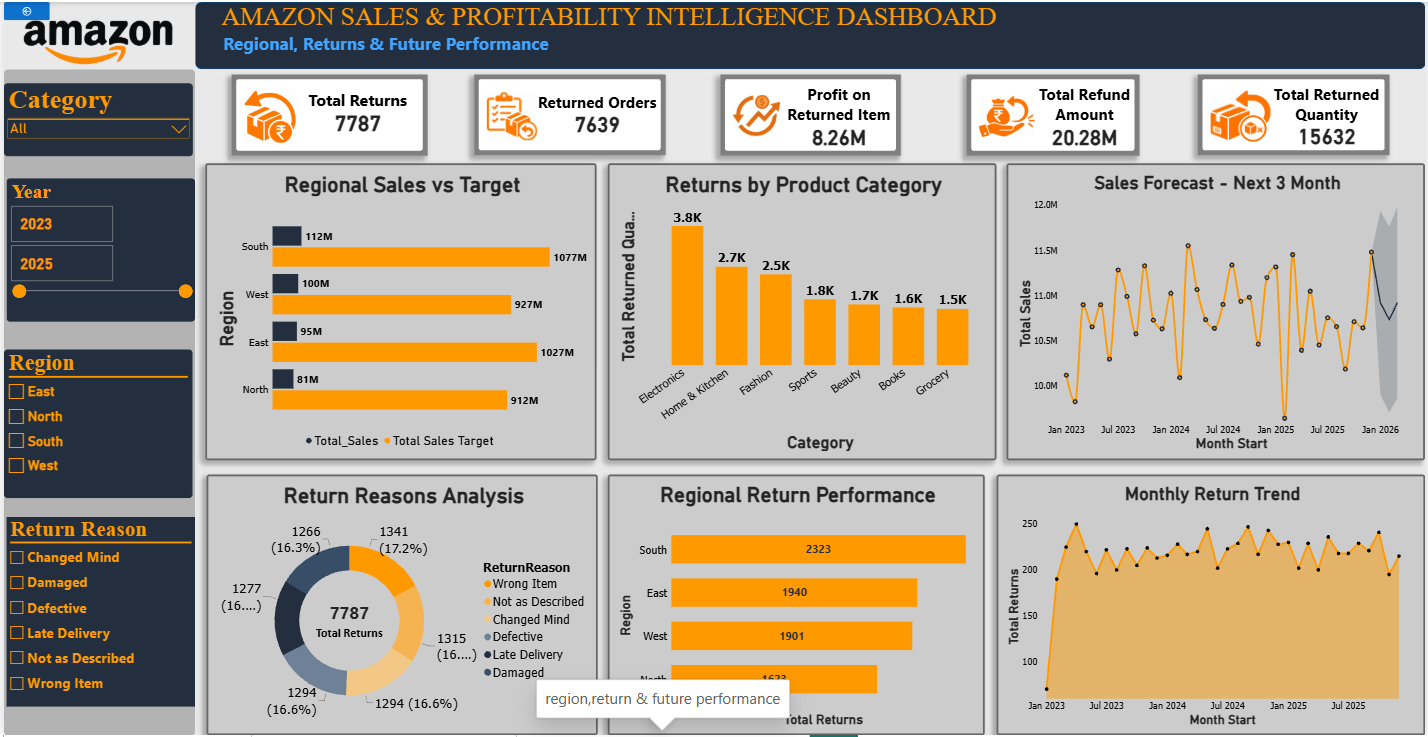

What the dashboard file says about the page in this screenshot:
{"tool":"powerbi","page":{"name":"region,return & future performance","canvas":[3100,1600],"ordinal":2},"visuals":[{"type":"shape","box":[0,146.4,416.8,1453.1],"z":0},{"type":"shape","box":[416.8,0,2683.8,146.4],"z":1000},{"type":"clusteredBarChart","title":"Regional Sales vs Target","fields":{"Category":["Regions.Region"],"Y":["Sales.Total_Sales","Targets.Total Sales Target"]},"box":[439.3,352,853.3,647.7],"z":2000},{"type":"clusteredColumnChart","title":"Returns by Product Category","fields":{"Category":["Products.Category"],"Y":["Returns.Total Returned Quantity"]},"box":[1318,352,847.7,647.7],"z":3000},{"type":"actionButton","box":[0,0,100,40],"z":4000},{"type":"donutChart","title":"Return Reasons Analysis","fields":{"Category":["Returns.ReturnReason"],"Y":["Returns.Total Returns"]},"box":[442.1,1030.7,853.3,568.9],"z":5000},{"type":"clusteredBarChart","title":"Regional Return Performance","fields":{"Category":["Regions.Region"],"Y":["Returns.Total Returns"]},"box":[1318,1030.7,822.3,568.9],"z":6000},{"type":"lineChart","title":" Sales Forecast - Next 3 Month","fields":{"Category":["Calendar.Month Start"],"Y":["Sales.Total_Sales"]},"box":[2188.1,352,912.4,647.7],"z":7000},{"type":"lineChart","title":"Monthly Return Trend","fields":{"Category":["Calendar.Month Start"],"Y":["Returns.Total Returns"]},"box":[2165.6,1030.7,935,568.9],"z":8000},{"type":"textbox","box":[473.1,0,2236,146.4],"z":9000},{"type":"image","box":[35.4,16.1,337.7,141.5],"z":10000},{"type":"cardVisual","fields":{"Data":["Returns.Total Returns"]},"box":[495.6,157.7,428.1,177.4],"z":11000},{"type":"cardVisual","fields":{"Data":["Returns.Returned Orders"]},"box":[1025.1,157.7,418.7,176.1],"z":12000},{"type":"cardVisual","fields":{"Data":["Returns.Returned Profit Impact"]},"box":[1563,157.7,394.3,177.4],"z":13000},{"type":"cardVisual","fields":{"Data":["Returns.Total Refund Amount"]},"box":[2100.8,157.7,377.4,177.4],"z":14000},{"type":"cardVisual","fields":{"Data":["Returns.Total Returned Quantity"]},"box":[2604.9,157.7,418.7,176.1],"z":15000},{"type":"slicer","fields":{"Values":["Products.Category"]},"box":[0,177.4,412.1,159.5],"z":16000},{"type":"slicer","fields":{"Values":["Calendar.Year"]},"box":[6.6,385.5,411.2,312.6],"z":17000},{"type":"slicer","fields":{"Values":["Regions.Region"]},"box":[0,757.5,411.2,323.9],"z":18000},{"type":"slicer","fields":{"Values":["Returns.ReturnReason"]},"box":[5.6,1123.6,411.2,414],"z":19000}]}

Visuals, with their boxes in screenshot pixels (x1, y1, x2, y2), scaled from the page's 3100x1600 canvas onto the 1428x737 screenshot:
shape: box=[0, 67, 192, 736]
shape: box=[192, 0, 1427, 67]
"Regional Sales vs Target" clusteredBarChart: box=[202, 162, 595, 460]
"Returns by Product Category" clusteredColumnChart: box=[607, 162, 998, 460]
actionButton: box=[0, 0, 46, 18]
"Return Reasons Analysis" donutChart: box=[204, 475, 597, 736]
"Regional Return Performance" clusteredBarChart: box=[607, 475, 986, 736]
" Sales Forecast - Next 3 Month" lineChart: box=[1008, 162, 1427, 460]
"Monthly Return Trend" lineChart: box=[998, 475, 1427, 736]
textbox: box=[218, 0, 1248, 67]
image: box=[16, 7, 172, 73]
cardVisual - Returns.Total Returns: box=[228, 73, 425, 154]
cardVisual - Returns.Returned Orders: box=[472, 73, 665, 154]
cardVisual - Returns.Returned Profit Impact: box=[720, 73, 902, 154]
cardVisual - Returns.Total Refund Amount: box=[968, 73, 1142, 154]
cardVisual - Returns.Total Returned Quantity: box=[1200, 73, 1393, 154]
slicer - Products.Category: box=[0, 82, 190, 155]
slicer - Calendar.Year: box=[3, 178, 192, 322]
slicer - Regions.Region: box=[0, 349, 189, 498]
slicer - Returns.ReturnReason: box=[3, 518, 192, 708]
